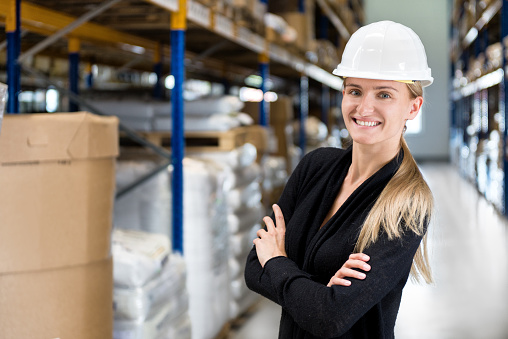em pe: (233, 20, 440, 339)
